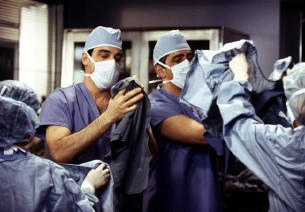face_mask: (88, 47, 117, 89), (163, 51, 194, 86)
